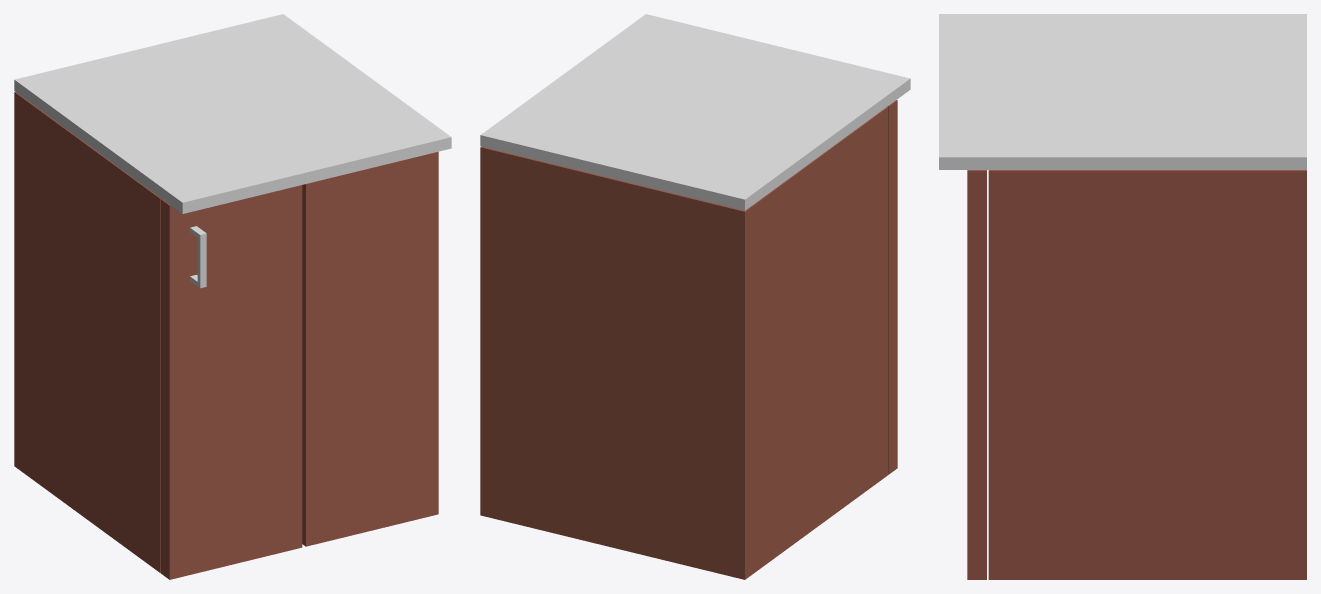
Rendered from SM_counter_kitchen.fbx.
The picture shows the model from 3 angles, left to right: view 1: azimuth 30°, elevation 25°; view 2: azimuth 150°, elevation 25°; view 3: azimuth 270°, elevation 25°; orthographic projection. The views are drawn at different scales.
Parts seen in each view (by area): view 1: Cube.019, Plane.047; view 2: Cube.019; view 3: Cube.019.
Part boxes in pixels (x1,y1,x2,y2): Cube.019: (14, 14, 451, 579); Plane.047: (190, 226, 206, 288); Cube.019: (480, 14, 910, 579); Cube.019: (939, 14, 1306, 579).
Size of the model in its own units: 60 by 82.42 by 65.
